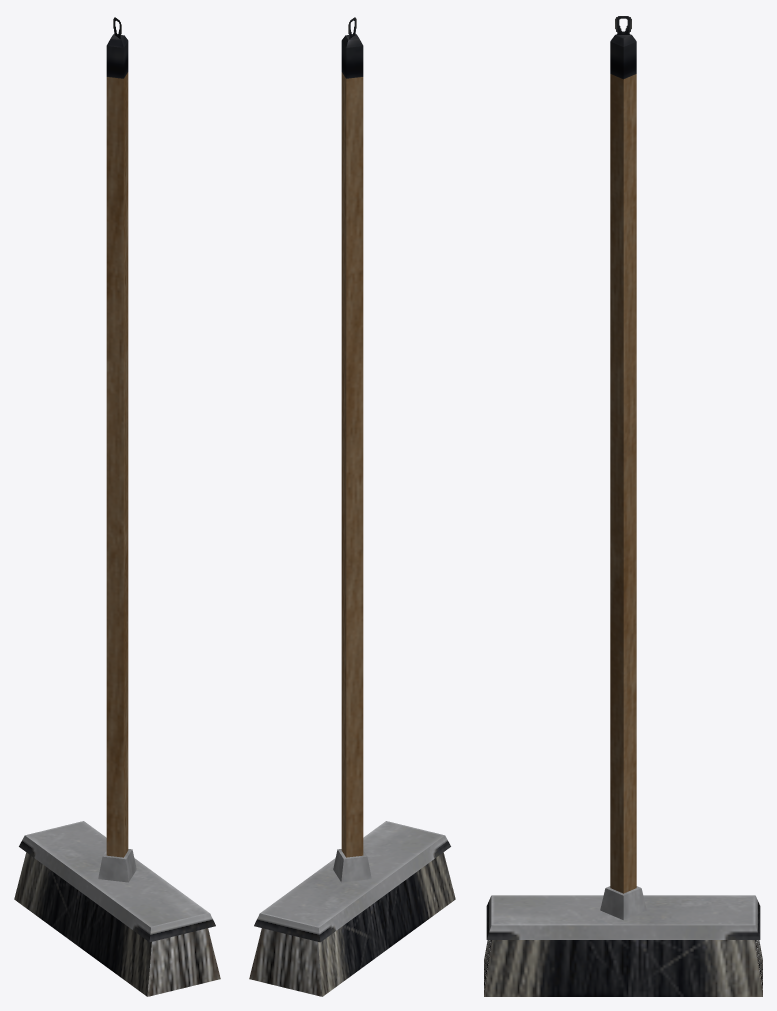
Rendered from Broom.fbx.
3 views of the same model, side by side, from view 1: azimuth 30°, elevation 25°; view 2: azimuth 150°, elevation 25°; view 3: azimuth 270°, elevation 25° (orthographic). The views are drawn at different scales.
Visible parts, largest first — view 1: Broom; view 2: Broom; view 3: Broom.
Part boxes in pixels (bbox=[...]): Broom: bbox=[14, 17, 220, 996]; Broom: bbox=[249, 17, 455, 996]; Broom: bbox=[484, 16, 762, 996].
Size of the model in its own units: 12.11 by 145 by 38.15.
